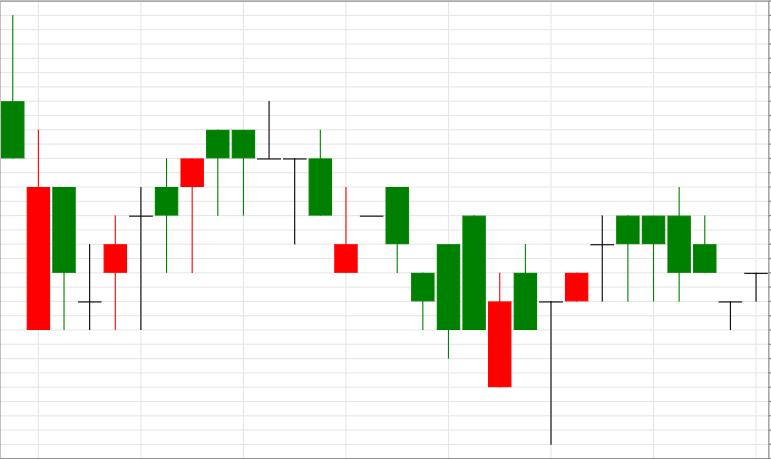inverse_hammer_rise: (206, 100, 358, 272)
